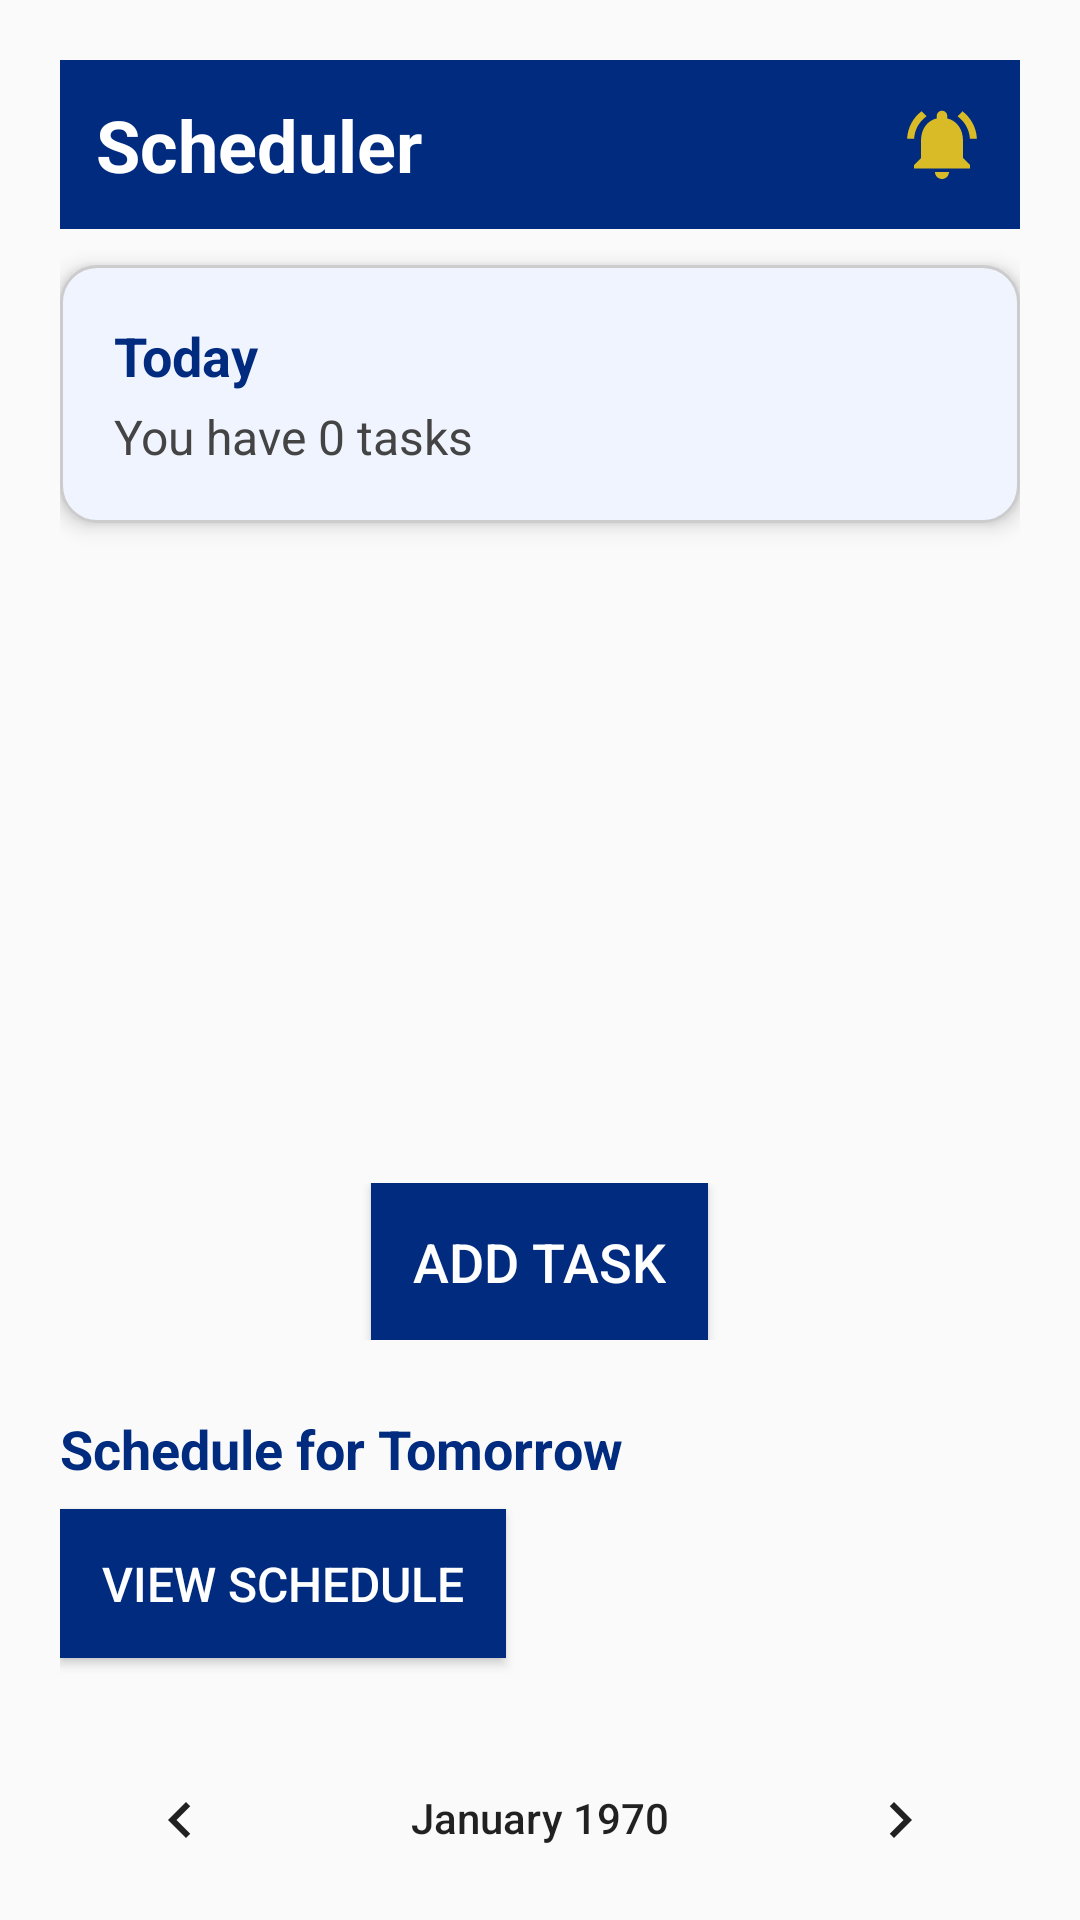

Screen size 1080 × 1920. Icon name, then its center in pixels as (x=x, y=y):
Notifications: (x=942, y=144)
